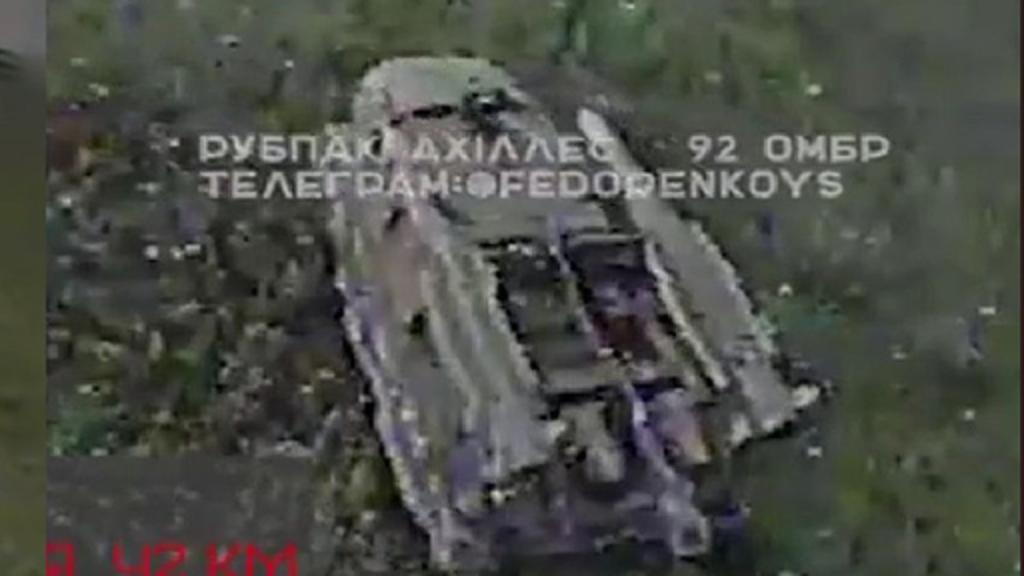MLRS: (274, 32, 830, 572)
